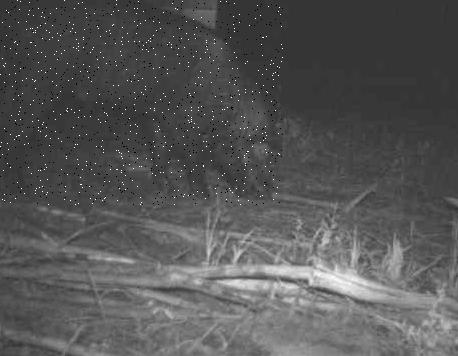Hog: (0, 0, 283, 205)
